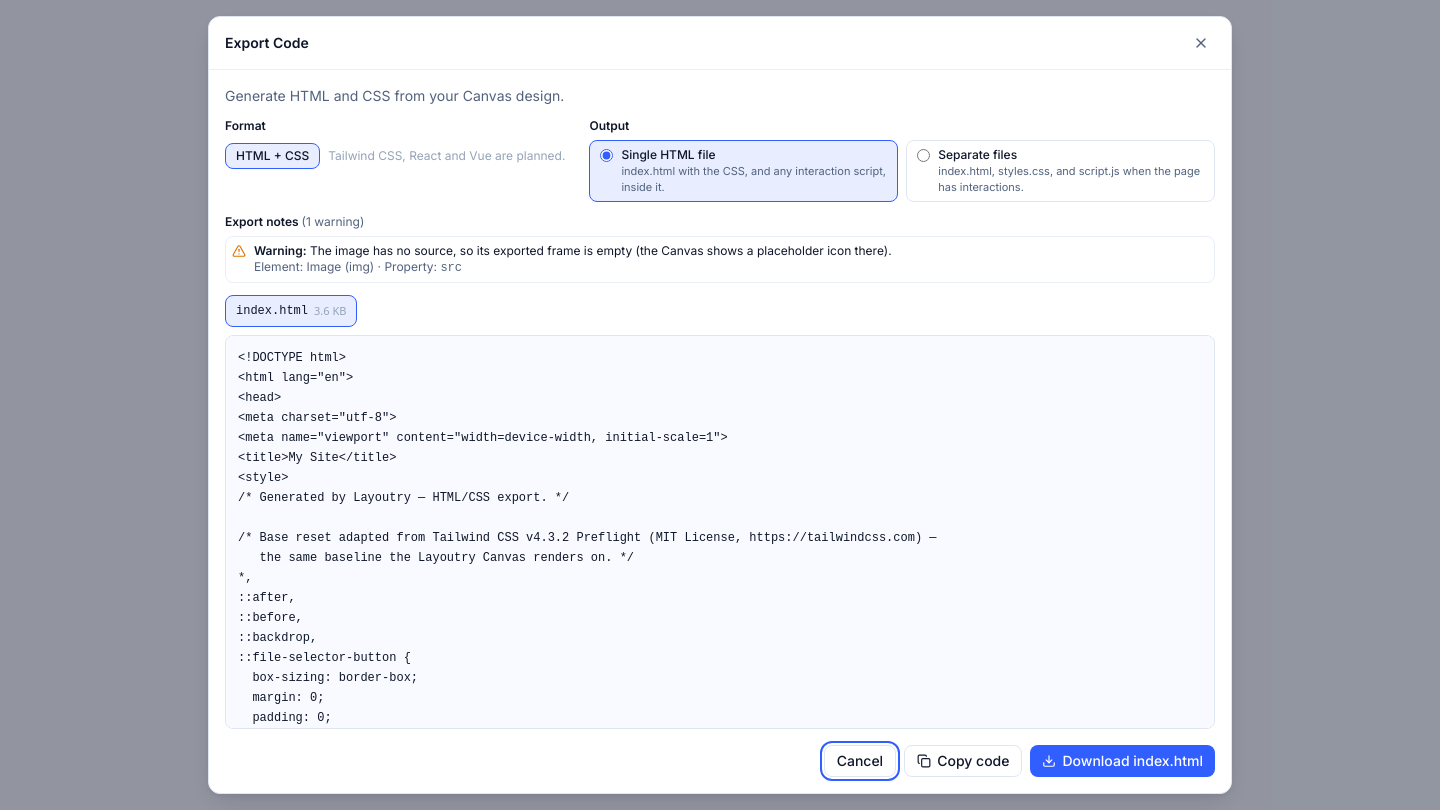
Test: ExportCodeDialog — copy and browser downloads › copies the exact text of the selected file
This screenshot has width=1440, height=810.
Click the button "Copy code". click: (963, 761)
box: [904,745,1022,777]
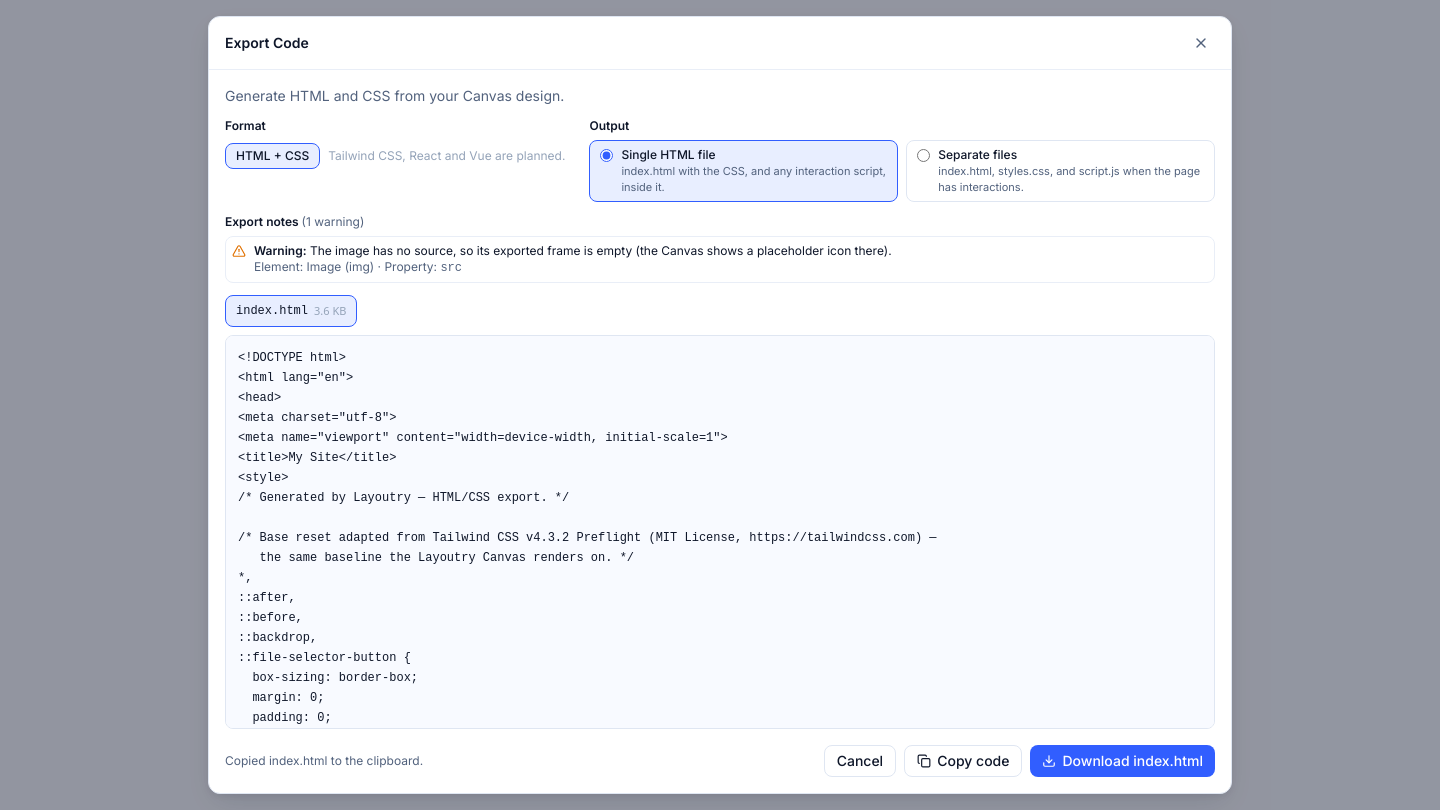
Expected: the text "Copied index.html to the clipboard." is shown, [225,753,423,768]
